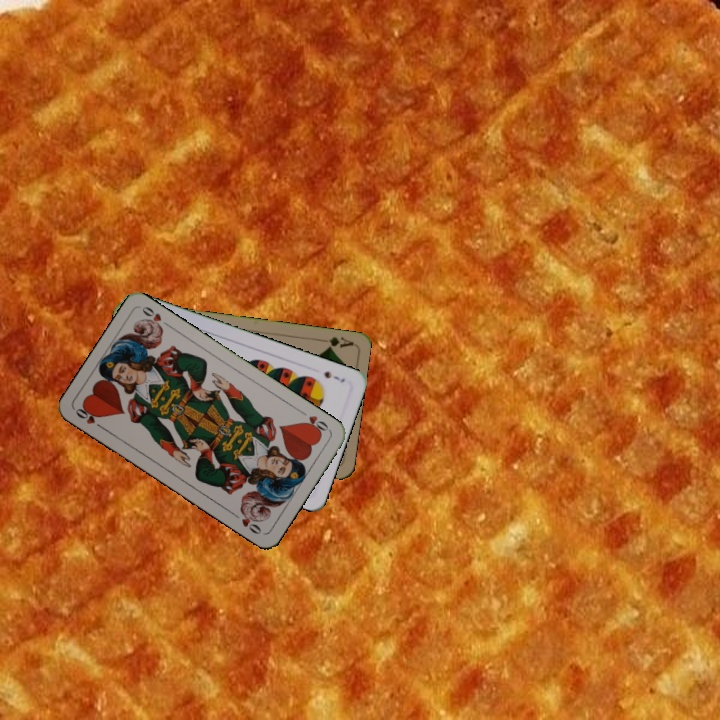GA: (314, 332, 355, 351)
HO: (296, 406, 332, 437), (71, 403, 108, 433)
S7: (320, 367, 347, 385)
